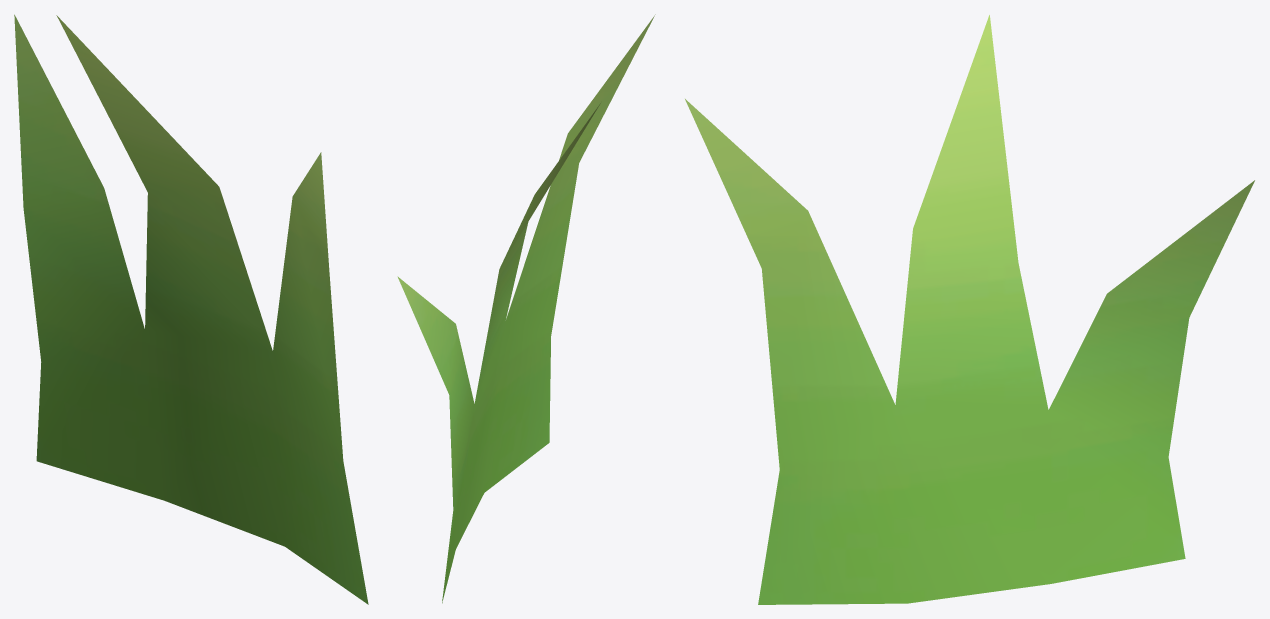
Rendered from Misc_Grass1.fbx.
3 views of the same model, side by side, from view 1: azimuth 30°, elevation 25°; view 2: azimuth 150°, elevation 25°; view 3: azimuth 270°, elevation 25° (orthographic). The views are drawn at different scales.
Parts seen in each view (by area): view 1: Grass1; view 2: Grass1; view 3: Grass1.
Part boxes in pixels (x1=…): Grass1: x1=14, y1=14, x2=368, y2=604; Grass1: x1=397, y1=14, x2=655, y2=603; Grass1: x1=685, y1=15, x2=1254, y2=604.
Bounding box in the file's own units: 0.1442 × 0.3999 × 0.4091.
